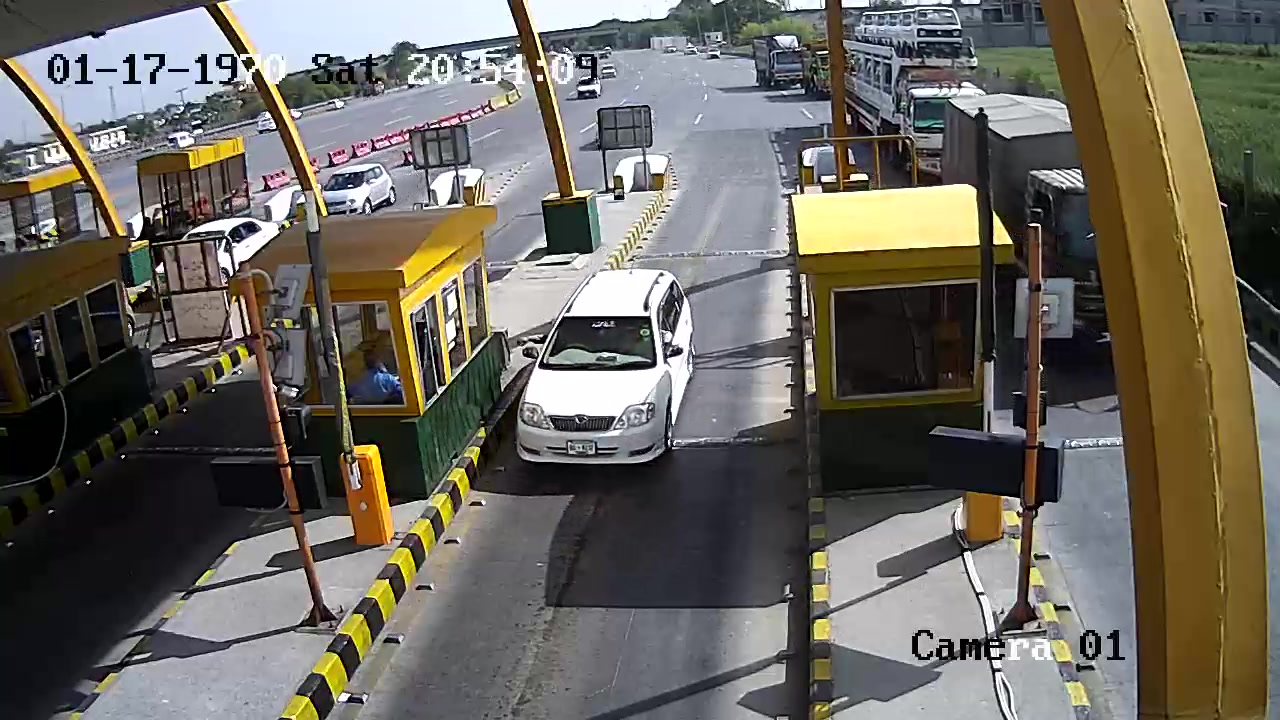F1: (504, 262, 709, 473)
